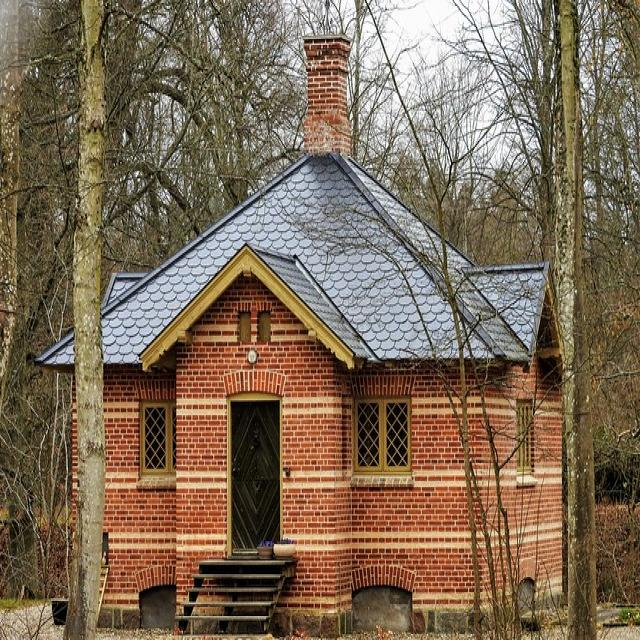building: (33, 29, 570, 636)
